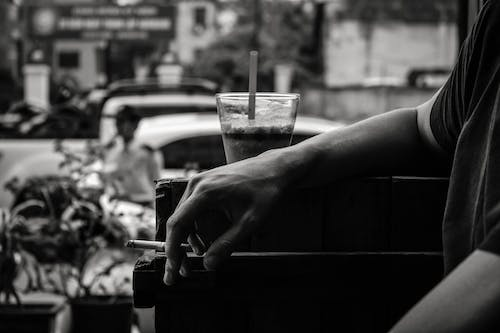cigarette: (122, 239, 192, 253)
